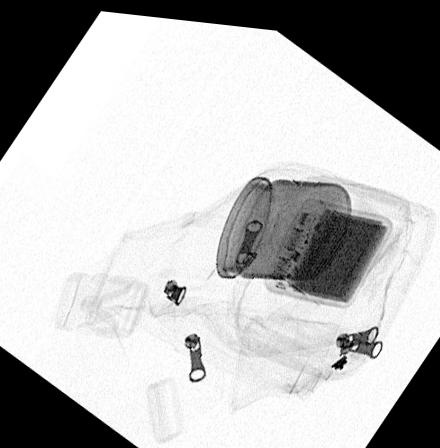Powerbank: (261, 190, 394, 301)
